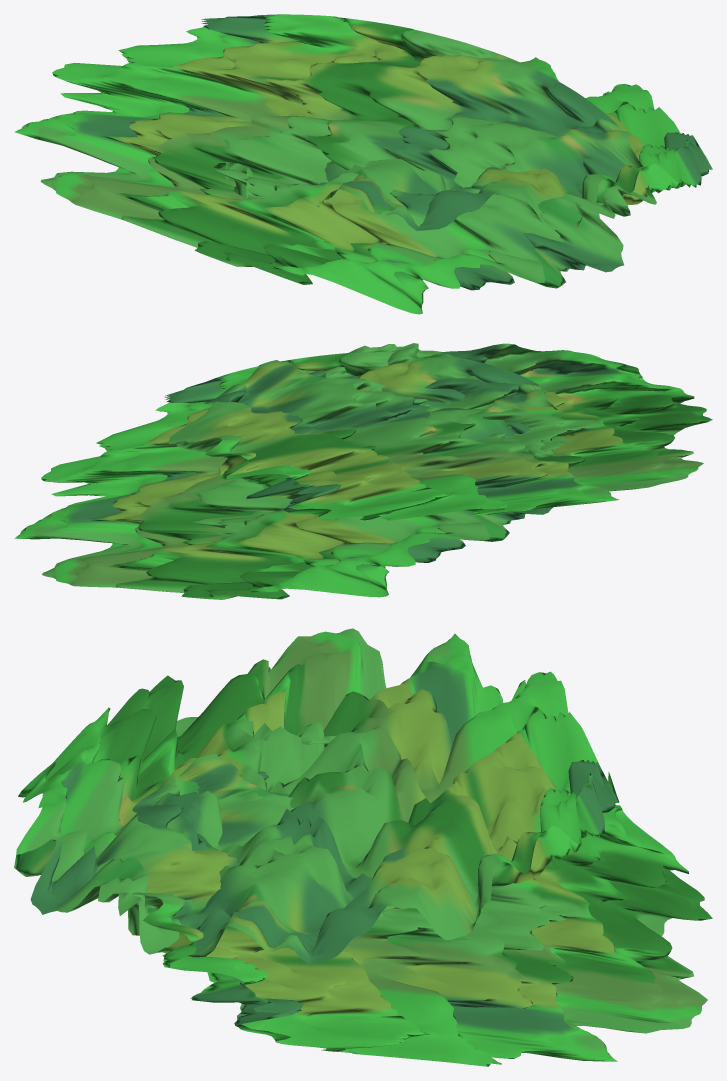
Rendered from selada.glb.
3 views of the same model, one above another, from view 1: azimuth 30°, elevation 25°; view 2: azimuth 150°, elevation 25°; view 3: azimuth 270°, elevation 25° (orthographic). The views are drawn at different scales.
Visible parts, largest first — view 1: Plane.002, Plane.001; view 2: Plane.002, Plane.001; view 3: Plane.002, Plane.001.
Part boxes in pixels (left/top/right/bottom): Plane.002: left=14, top=14, right=656, bottom=314; Plane.001: left=112, top=57, right=712, bottom=230; Plane.002: left=168, top=343, right=712, bottom=520; Plane.001: left=14, top=352, right=574, bottom=599; Plane.002: left=14, top=628, right=618, bottom=963; Plane.001: left=96, top=736, right=712, bottom=1066.
Size of the model in its own units: 12.58 by 2.6 by 11.44.
2 materials, 2 textured.
